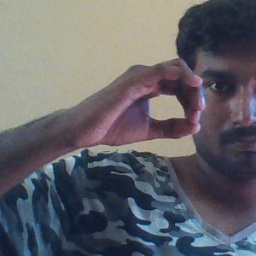O: (75, 52, 208, 144)
